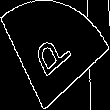P_SW: (32, 26, 78, 84)
